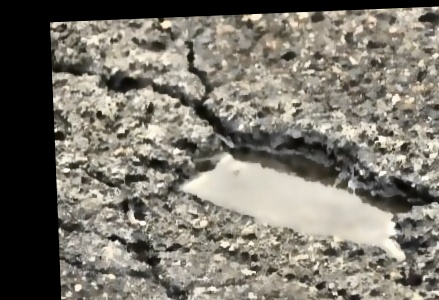pothole: (159, 114, 439, 277)
